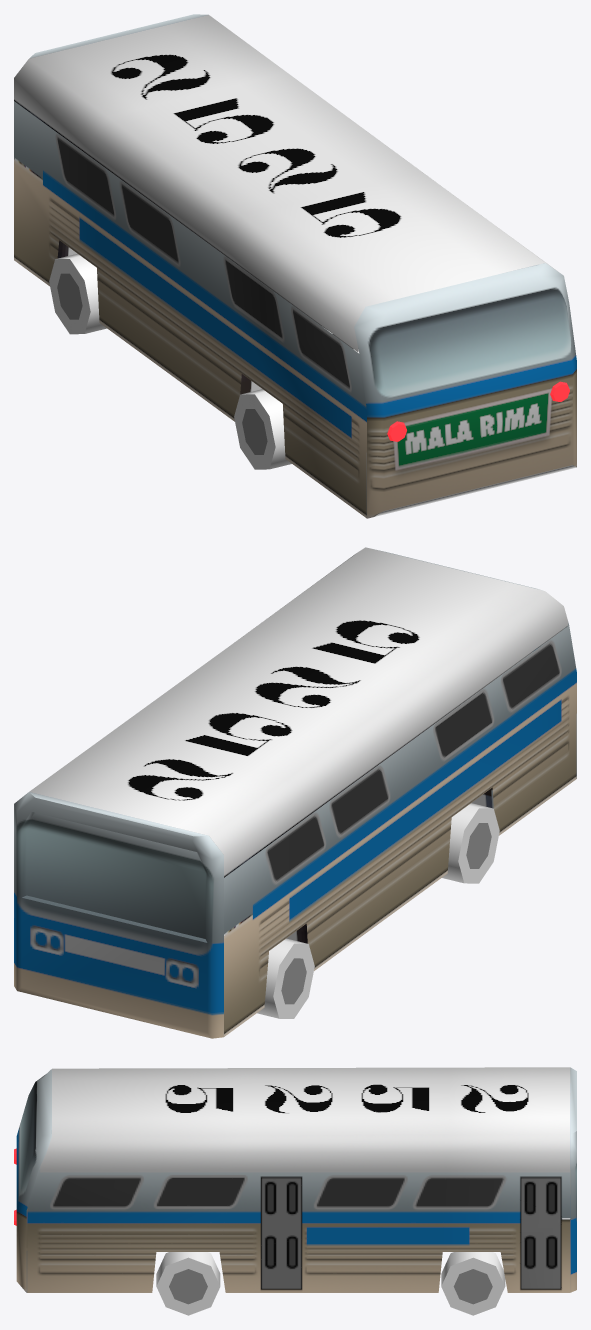
Rendered from bus.fbx.
3 renders of one model, top to bottom at view 1: azimuth 30°, elevation 25°; view 2: azimuth 150°, elevation 25°; view 3: azimuth 270°, elevation 25°, orthographic. The views are drawn at different scales.
Visible parts, largest first — view 1: bus.001, wheel_rear_left, wheel_front_left; view 2: bus.001, wheel_rear_left, wheel_front_left; view 3: bus.001, wheel_rear_right, wheel_front_right.
Part boxes in pixels (left/top/right/bottom): bus.001: left=14, top=14, right=576, bottom=518; wheel_rear_left: left=234, top=389, right=291, bottom=469; wheel_front_left: left=49, top=253, right=106, bottom=334; bus.001: left=14, top=547, right=576, bottom=1038; wheel_rear_left: left=442, top=803, right=499, bottom=883; wheel_front_left: left=257, top=938, right=314, bottom=1018; bus.001: left=14, top=1067, right=576, bottom=1292; wheel_rear_right: left=156, top=1252, right=220, bottom=1315; wheel_front_right: left=441, top=1252, right=505, bottom=1315.
Size of the model in its own units: 0.3557 by 0.3397 by 1.
